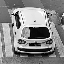motor: (14, 3, 49, 58)
